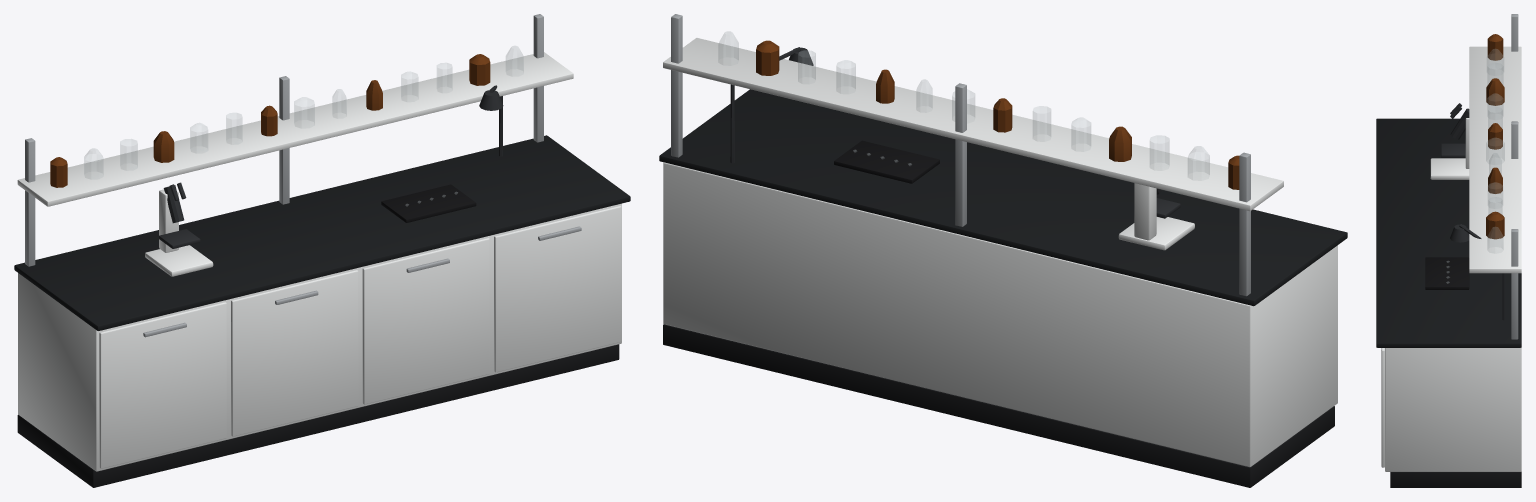
The model's file is vantage_lab_bench.glb.
The picture shows the model from 3 angles, left to right: view 1: azimuth 30°, elevation 25°; view 2: azimuth 150°, elevation 25°; view 3: azimuth 270°, elevation 25°; orthographic projection. The views are drawn at different scales.
Parts seen in each view (by area): view 1: vantage_lab_bench; view 2: vantage_lab_bench; view 3: vantage_lab_bench.
Boxes of the visible parts, x1=… form: vantage_lab_bench: x1=14, y1=14, x2=630, y2=487; vantage_lab_bench: x1=659, y1=14, x2=1347, y2=487; vantage_lab_bench: x1=1376, y1=14, x2=1521, y2=487.
Bounding box in the file's own units: 3.04 × 1.6 × 0.83.
